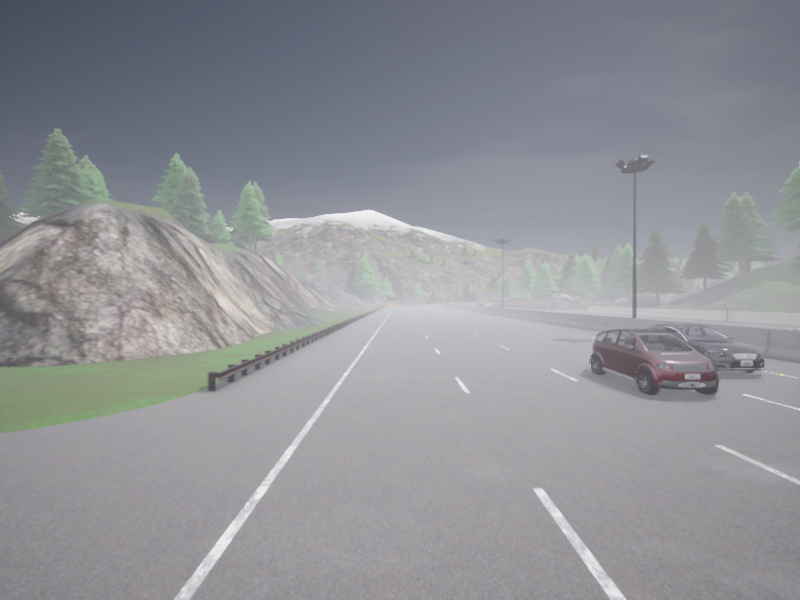vehicle: (590, 329, 718, 394), (645, 323, 763, 373), (475, 303, 483, 305)
